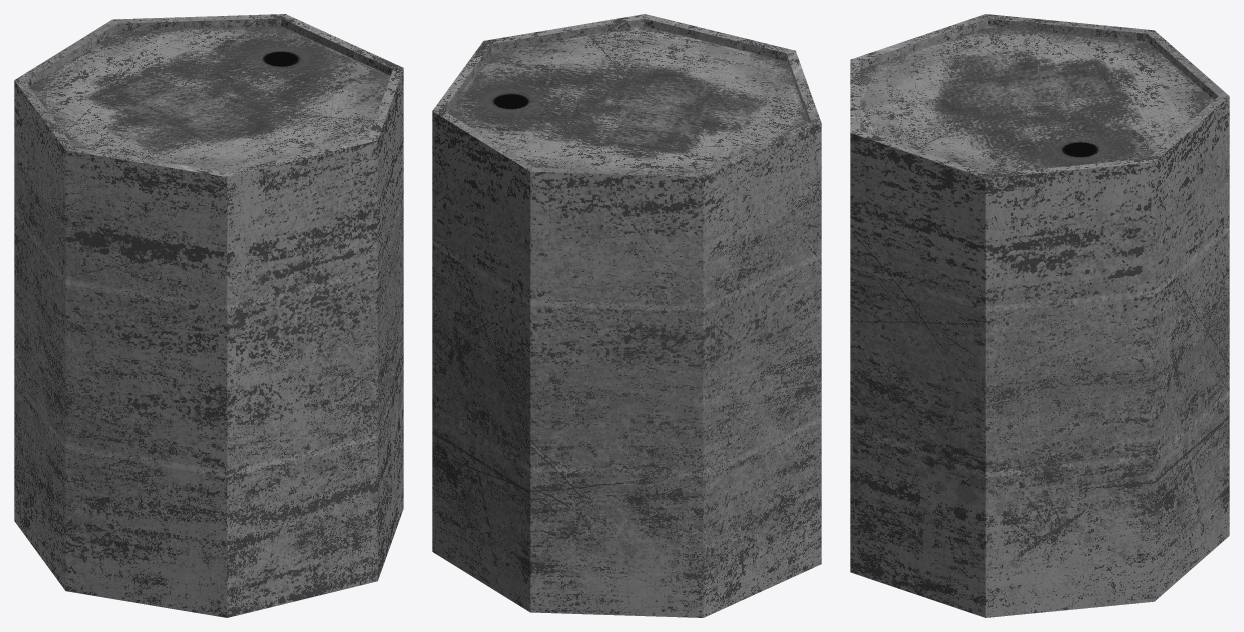
The model's file is Barrel_White.glb.
3 views of the same model, side by side, from view 1: azimuth 30°, elevation 25°; view 2: azimuth 150°, elevation 25°; view 3: azimuth 270°, elevation 25° (orthographic).
Parts seen in each view (by area): view 1: Cylinder; view 2: Cylinder; view 3: Cylinder.
Part boxes in pixels (box(x1,y1,x2,y2)): Cylinder: box(14, 14, 403, 617); Cylinder: box(432, 14, 821, 617); Cylinder: box(850, 14, 1229, 617).
Size of the model in its own units: 1.36 by 1.7 by 1.33.
Materials: 1 (1 with a texture image).
